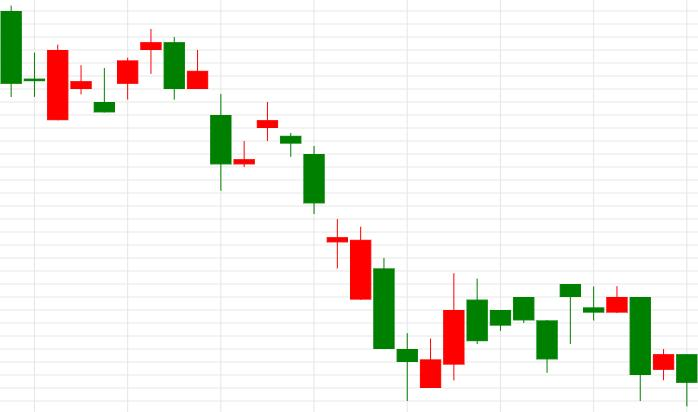evening_star_fall: (94, 27, 185, 113)
